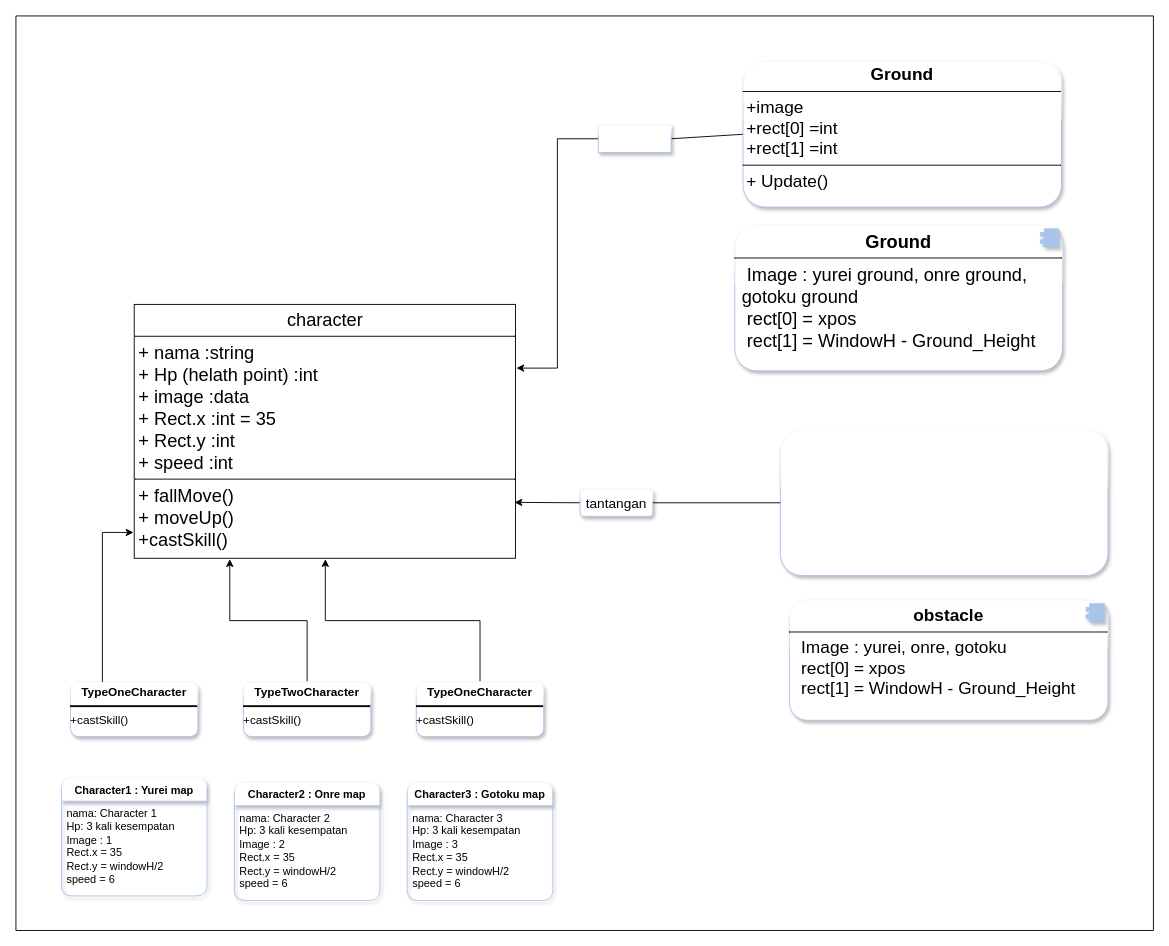
Image size: 1169x946. Some labels were removed from this diagram. The centre of each missing label's shape, as x and y in pixels:
memiliki: (635,140)
obstacle +image +Rect[0] =int +Rect[1] =int + Update(): (944,503)
